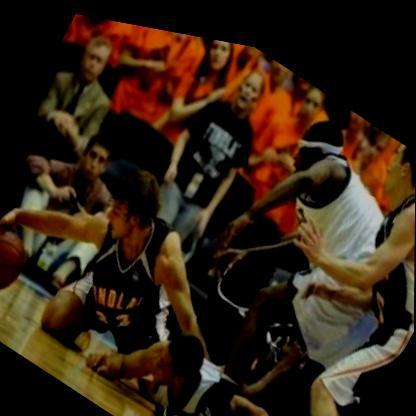basketball: (0, 217, 42, 313)
